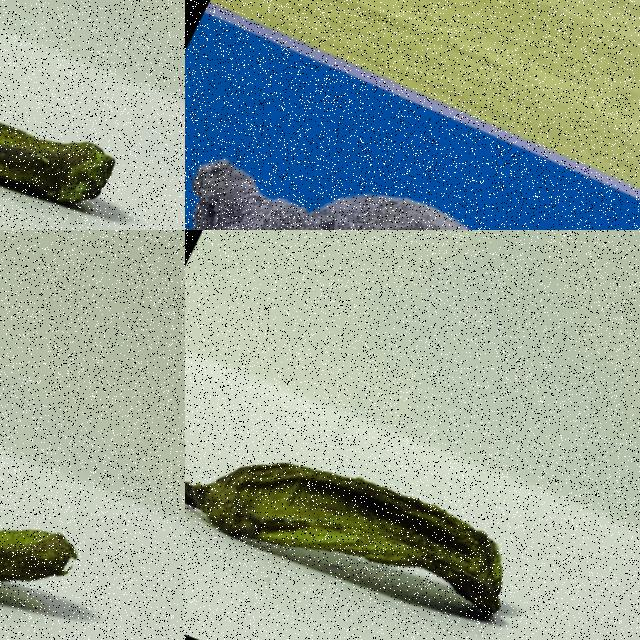Agglomerated_cocoabeans: (185, 34, 639, 229)
Flat_cocoabeans: (185, 347, 620, 639), (0, 343, 167, 639), (0, 0, 184, 229)
